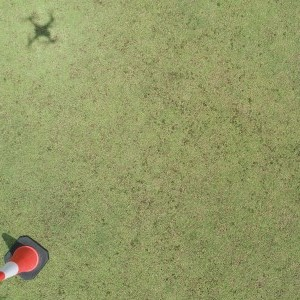traffic cone: (1, 235, 48, 281)
